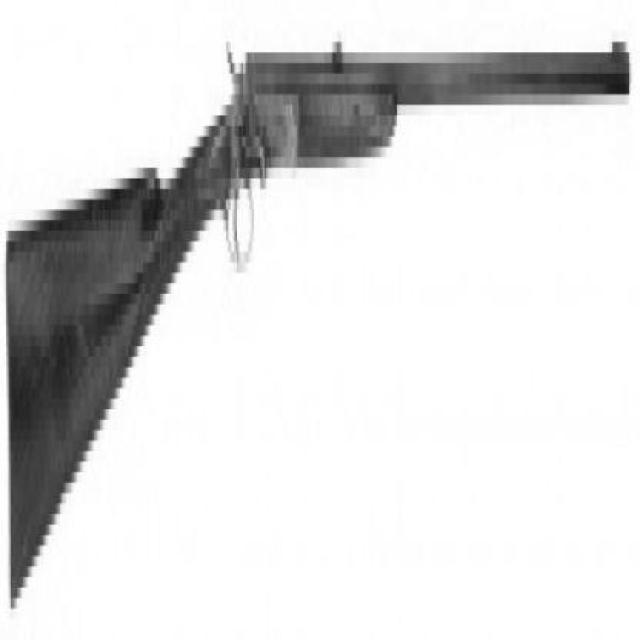weapon: (3, 39, 631, 613)
